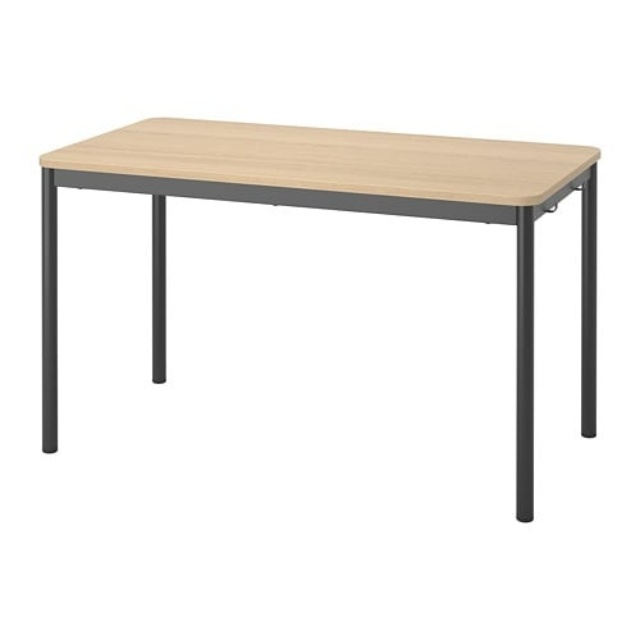obstacle: (40, 118, 599, 521)
